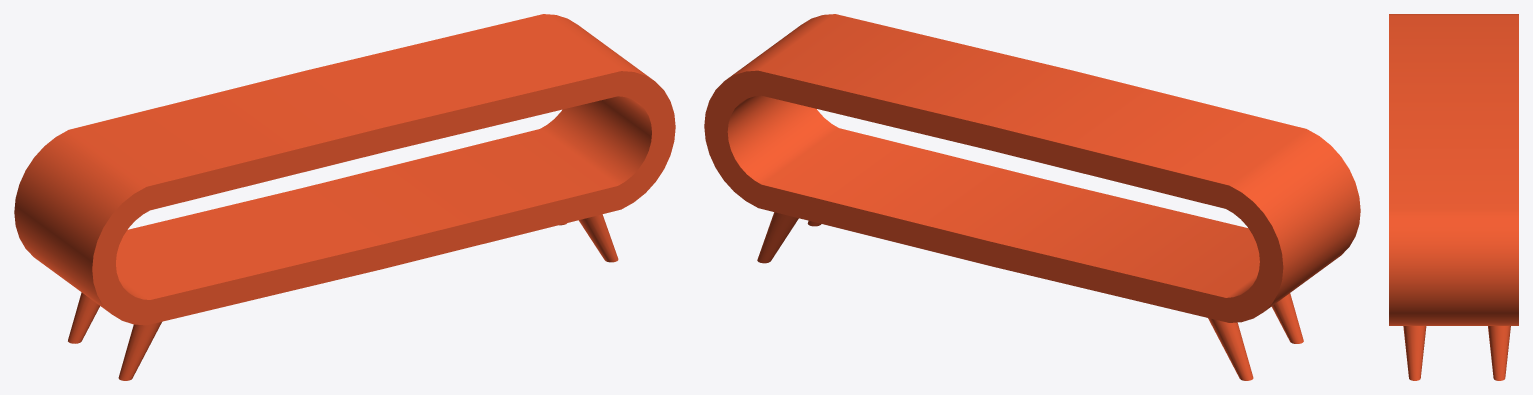
Rendered from table3.fbx.
The picture shows the model from 3 angles, left to right: view 1: azimuth 30°, elevation 25°; view 2: azimuth 150°, elevation 25°; view 3: azimuth 270°, elevation 25°; orthographic projection. The views are drawn at different scales.
Visible parts, largest first — view 1: Orange shiny coffee table; view 2: Orange shiny coffee table; view 3: Orange shiny coffee table.
Part boxes in pixels (x1,y1,x2,y2): Orange shiny coffee table: [14, 14, 675, 380]; Orange shiny coffee table: [704, 14, 1360, 380]; Orange shiny coffee table: [1389, 14, 1518, 380].
Size of the model in its own units: 220 by 72.82 by 50.8.
